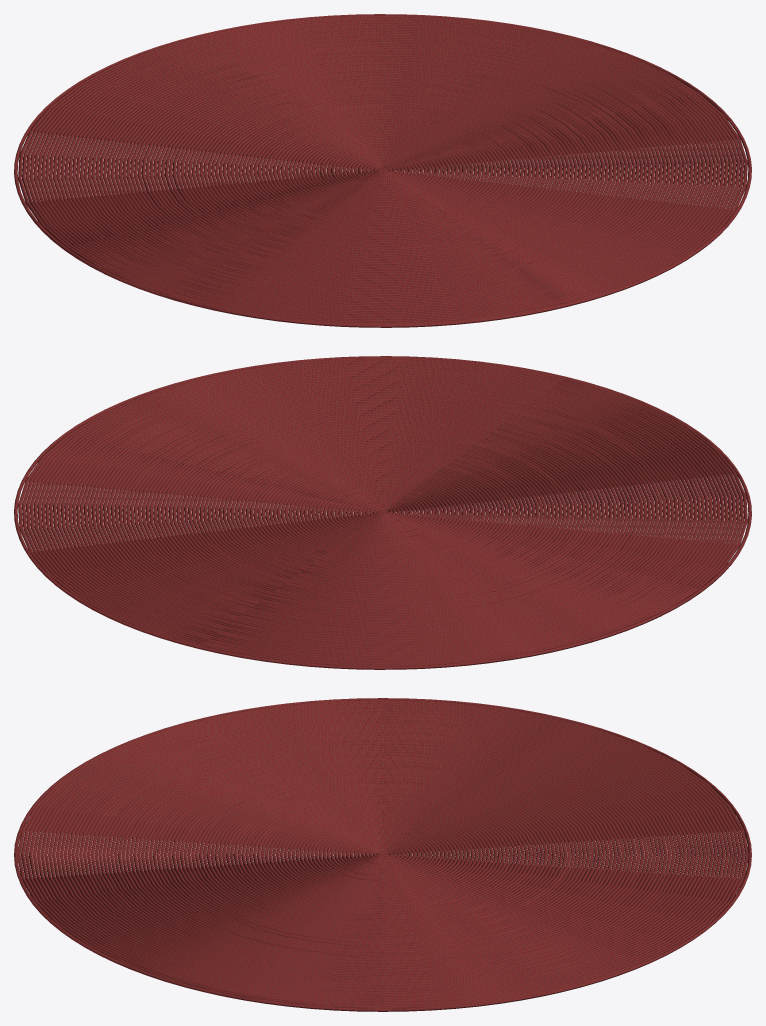
File: tapete.glb
3 renders of one model, top to bottom at view 1: azimuth 30°, elevation 25°; view 2: azimuth 150°, elevation 25°; view 3: azimuth 270°, elevation 25°, orthographic.
Parts seen in each view (by area): view 1: Helix003, Helix002, Helix004, Helix001, Group1; view 2: Helix004, Helix001, Helix003, Helix002, Group1; view 3: Helix001, Helix002, Helix003, Helix004, Group1.
Part boxes in pixels (x1=…): Helix003: x1=67, y1=169, x2=565, y2=324; Helix002: x1=382, y1=92, x2=747, y2=303; Helix004: x1=18, y1=36, x2=383, y2=247; Helix001: x1=201, y1=15, x2=697, y2=169; Group1: x1=14, y1=14, x2=751, y2=327; Helix004: x1=200, y1=511, x2=698, y2=666; Helix001: x1=18, y1=434, x2=383, y2=645; Helix003: x1=382, y1=378, x2=747, y2=589; Helix002: x1=68, y1=357, x2=564, y2=511; Group1: x1=14, y1=356, x2=751, y2=669; Helix001: x1=381, y1=852, x2=748, y2=1008; Helix002: x1=17, y1=852, x2=384, y2=1008; Helix003: x1=17, y1=699, x2=384, y2=854; Helix004: x1=381, y1=699, x2=748, y2=854; Group1: x1=14, y1=698, x2=751, y2=1011.
Bounding box in the file's own units: 2.01 × 0.0101 × 2.01.
1 material, 1 textured.
